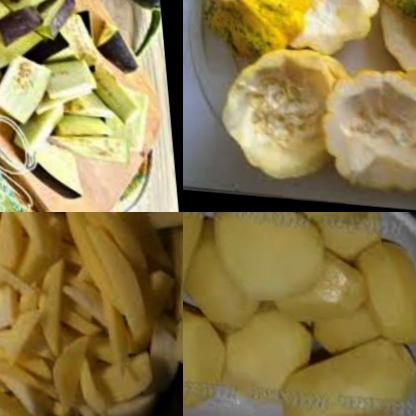eggplant: (0, 0, 140, 198)
potato: (0, 212, 183, 416), (194, 302, 302, 406), (207, 212, 325, 306), (277, 337, 414, 416), (183, 212, 259, 337), (339, 225, 416, 347), (278, 260, 368, 346), (308, 212, 387, 271), (183, 311, 227, 413), (252, 212, 366, 240)
squash-patisson: (201, 31, 341, 186), (311, 54, 416, 194), (186, 0, 308, 70), (248, 0, 380, 62), (369, 0, 416, 79)
